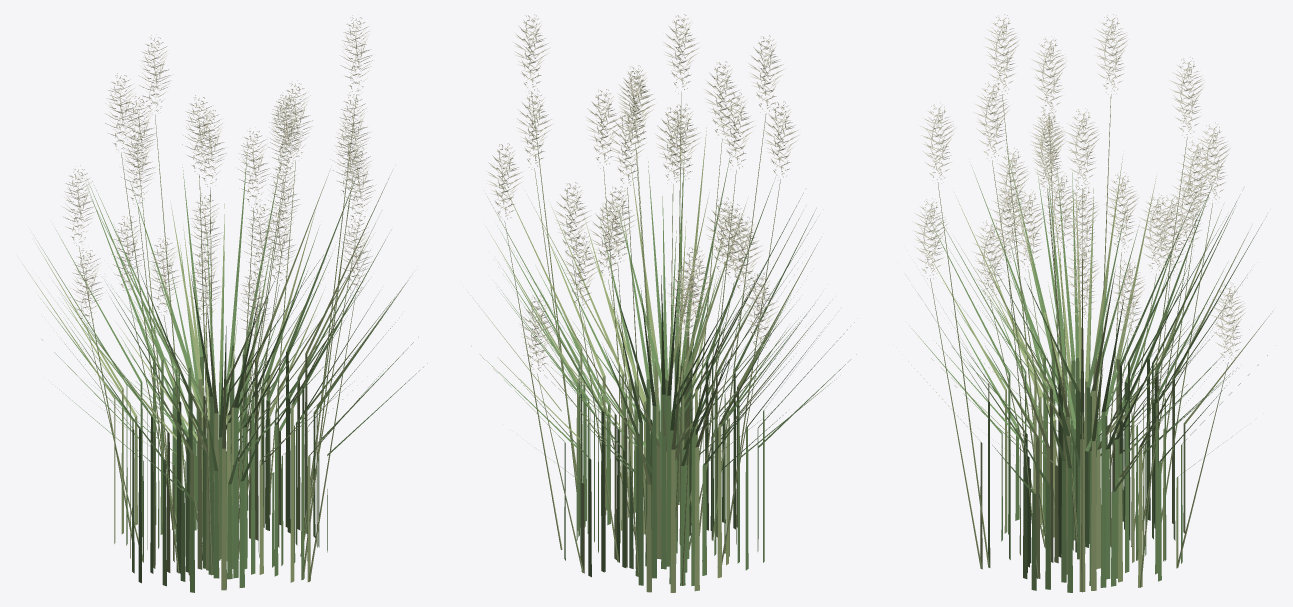
File: fountain-grass.glb
3 renders of one model, left to right at view 1: azimuth 30°, elevation 25°; view 2: azimuth 150°, elevation 25°; view 3: azimuth 270°, elevation 25°, orthographic.
Parts seen in each view (by area): view 1: catalog_surface_RealismUV; view 2: catalog_surface_RealismUV; view 3: catalog_surface_RealismUV.
Part boxes in pixels (bbox=[...]): catalog_surface_RealismUV: bbox=[23, 15, 427, 592]; catalog_surface_RealismUV: bbox=[468, 14, 856, 592]; catalog_surface_RealismUV: bbox=[908, 14, 1273, 592].
Size of the model in its own units: 0.85 by 1.15 by 0.8.
